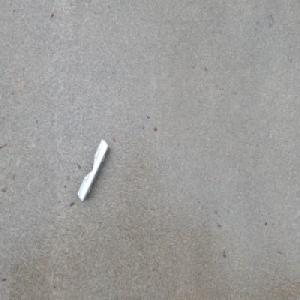ClampPart: (76, 138, 109, 204)
